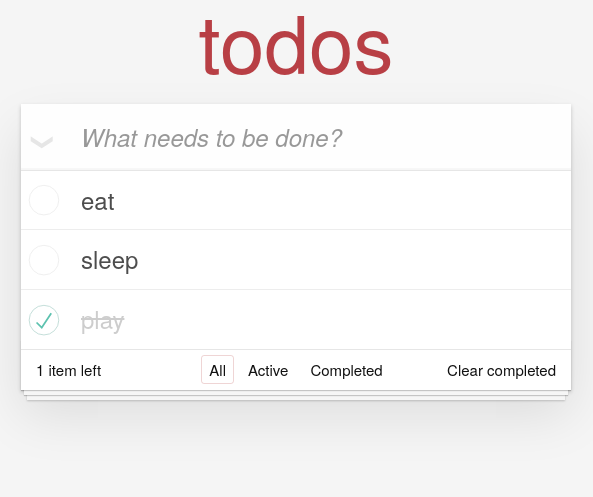
Test: 添加任务 › 输入内容敲回车添加到列表中，并且输入框被清空
Step 1. Type "Hello World" into the field with test id "new-todo" → point(296, 137), box 21,104 -> 571,170
Then press Enter
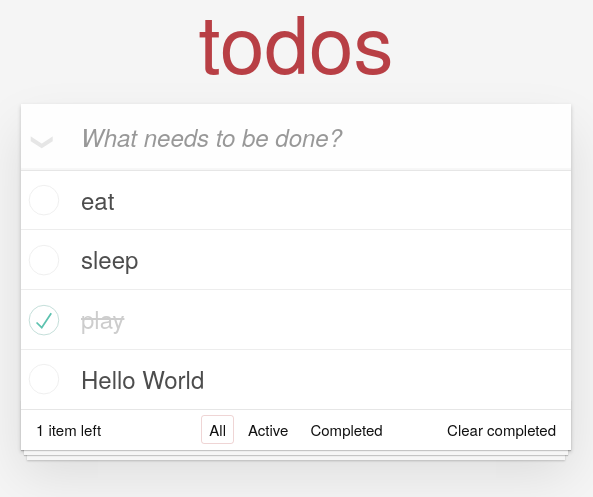
Expected: the text "Hello World" is shown, 21,350 -> 571,409
